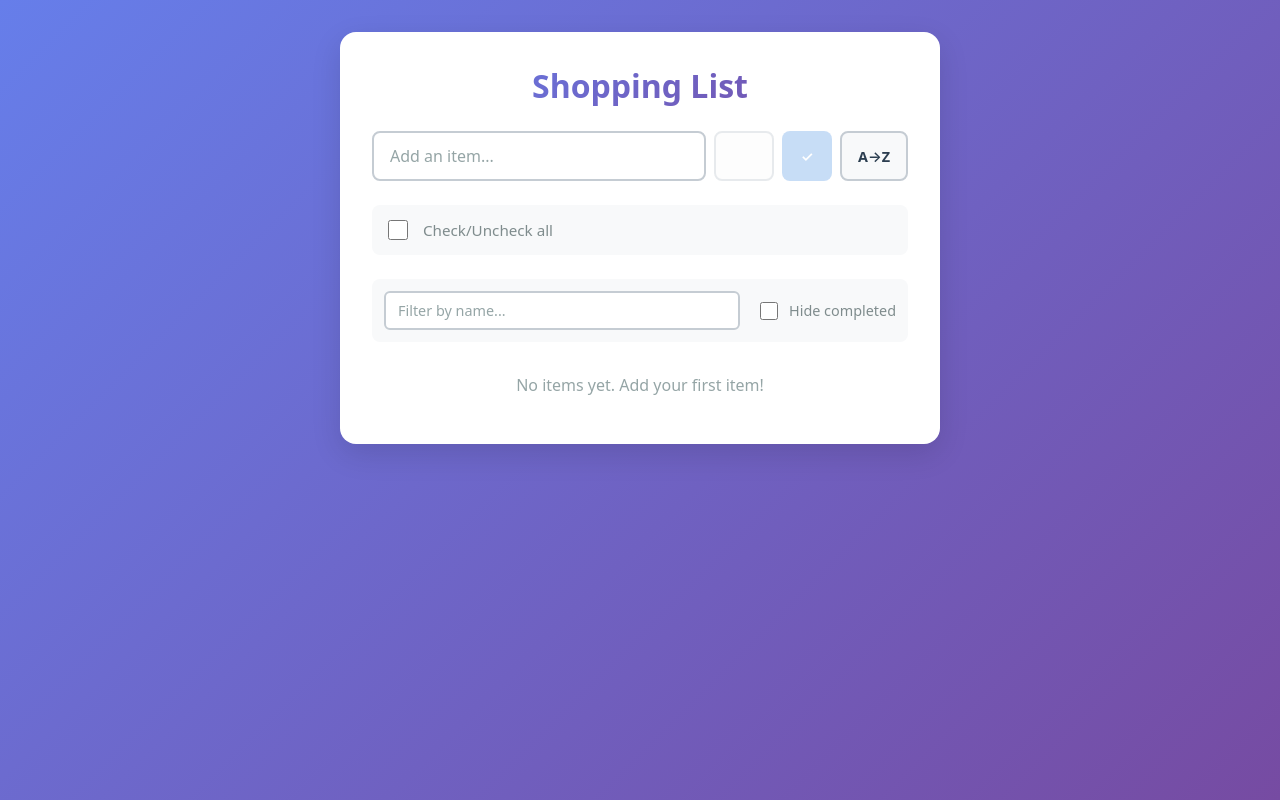
Test: App › shows a toast when adding an item fails
The width and height of the screenshot is (1280, 800).
In the field with placeholder "Add an item...": x=539, y=156 [372, 131, 706, 181], type "Milk"
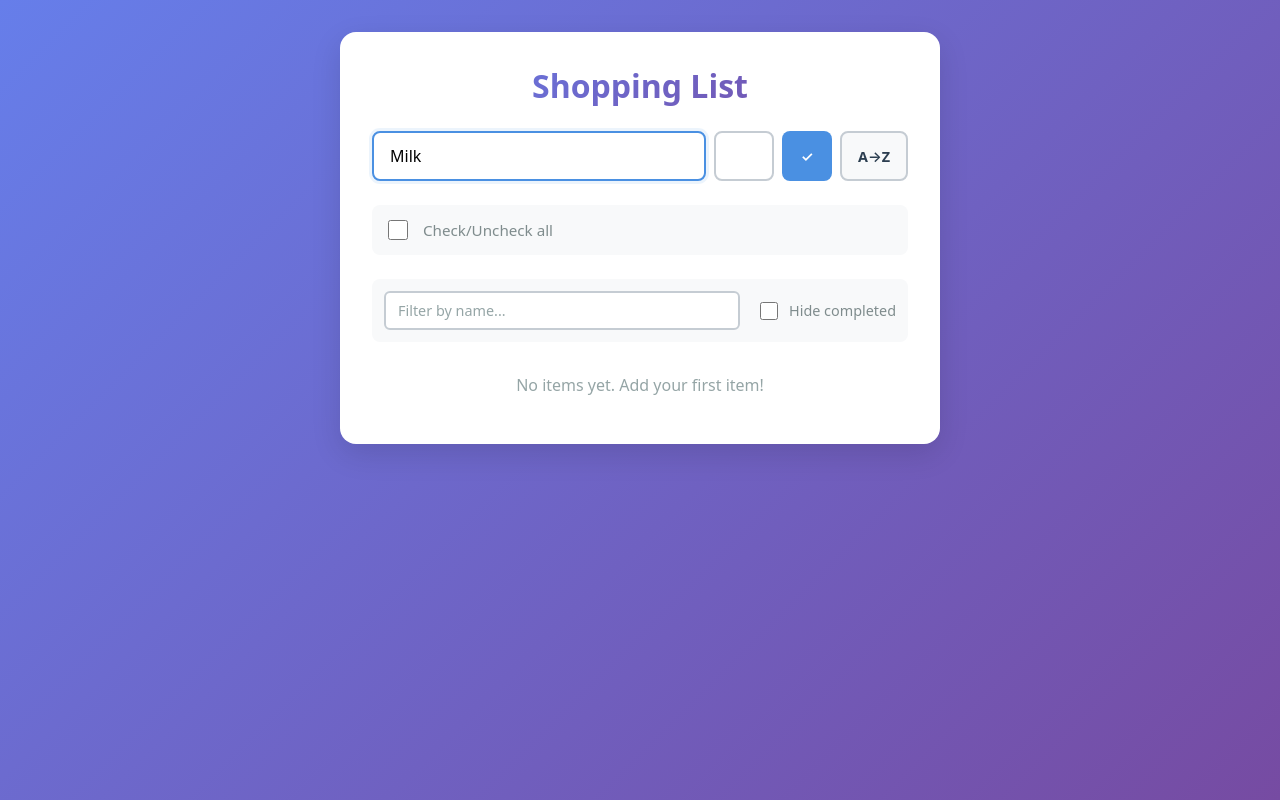
Click the button "✓": x=807, y=156 [782, 131, 832, 181]
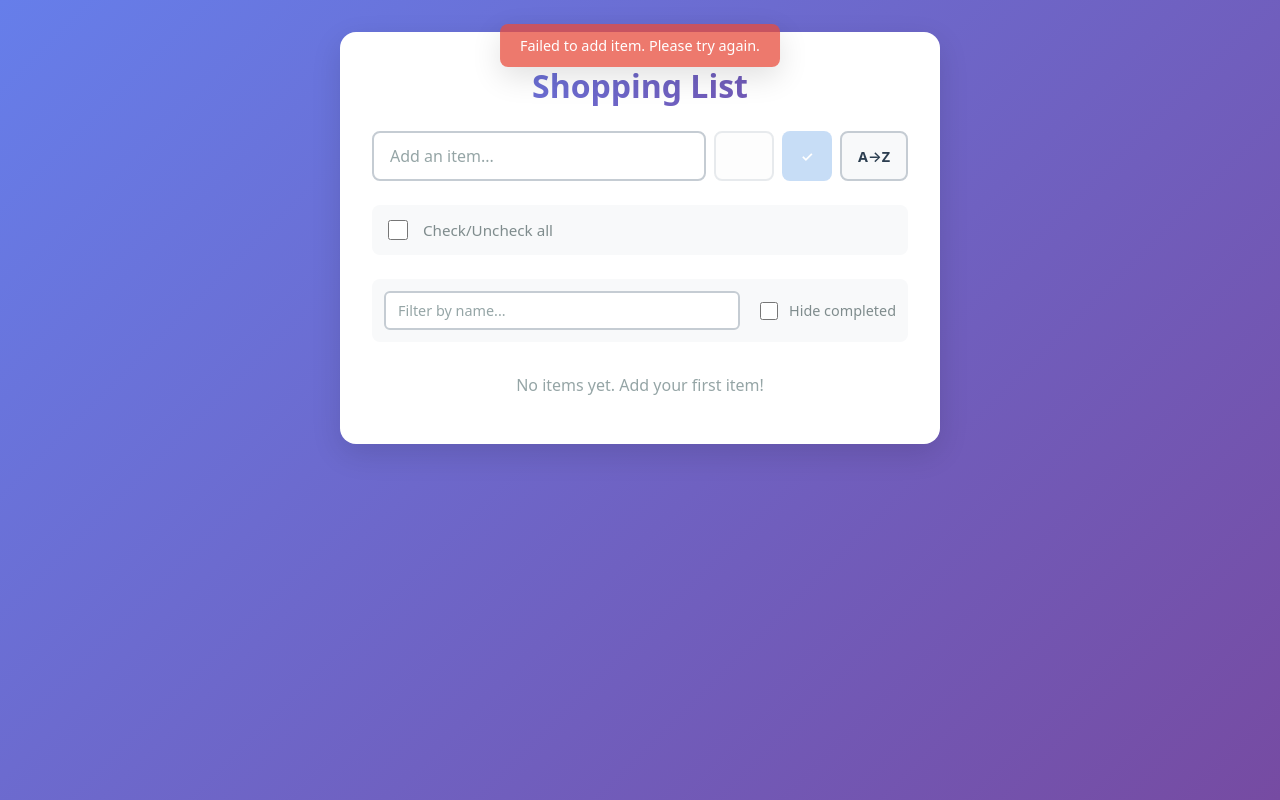
expect the text "Failed to add item. Please try again." is shown: met, box [500, 24, 780, 67]
